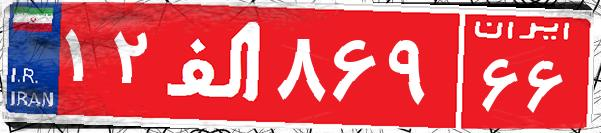1: (57, 26, 110, 107)
2: (110, 28, 158, 105)
6: (330, 28, 385, 110), (475, 38, 525, 113), (525, 38, 570, 115)
8: (273, 28, 330, 110)
9: (385, 28, 445, 110)
الف: (158, 15, 273, 115)
